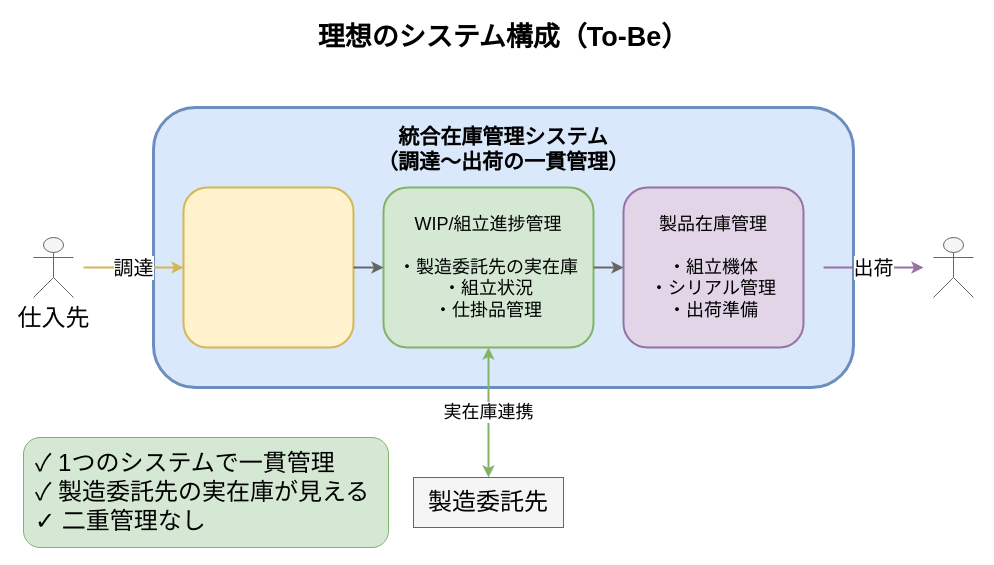
This 994x565 diagram has some shape labels left out. Each missing label, with the centre of its shape:
部品在庫管理 ・入庫/出庫 ・残数管理 ・ロット/シリアル: the point at 268,267
顧客: the point at 953,267
